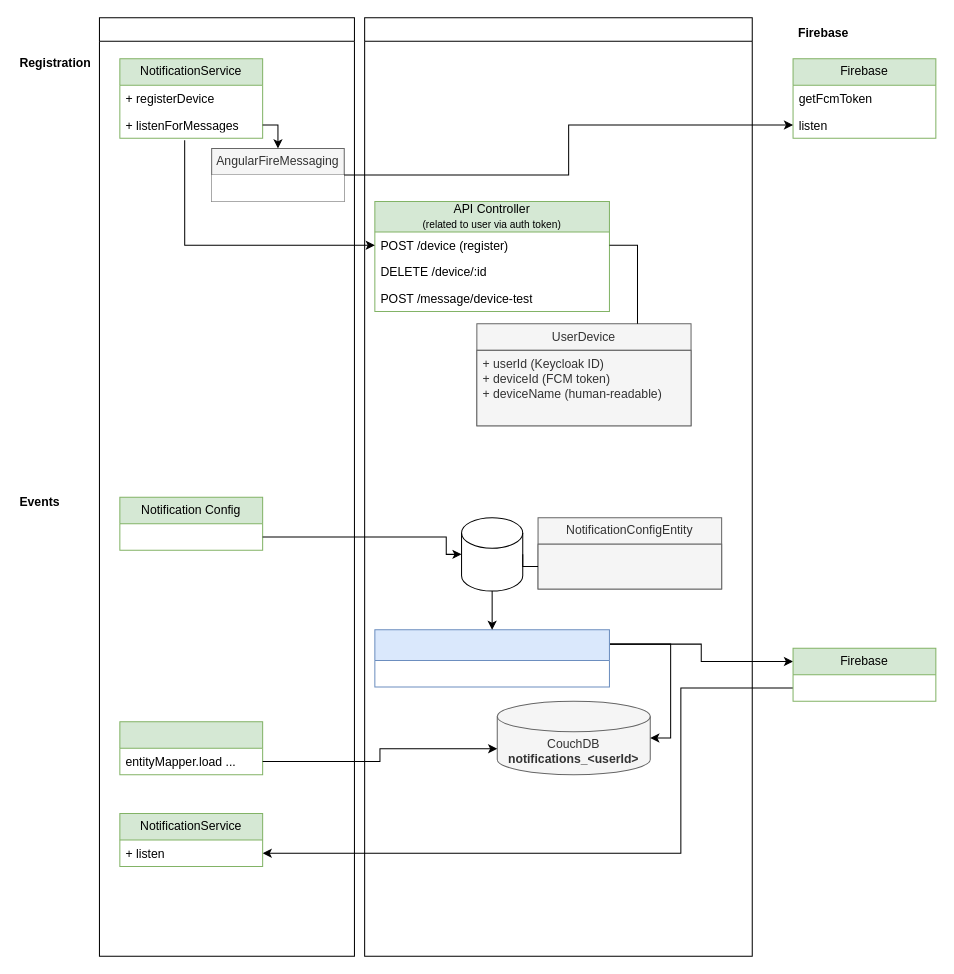
This 954x974 diagram has some shape labels left out. The box of each missing label's shape, as (x1, y1, x2, y2) in pixels:
+ getToken: (211, 174, 344, 201)
Backend: (364, 17, 752, 956)
CouchDB app: (461, 517, 523, 591)
CreateNotificationUseCase: (374, 629, 609, 687)
Frontend: (98, 17, 354, 956)
Notification Component: (119, 721, 263, 775)
